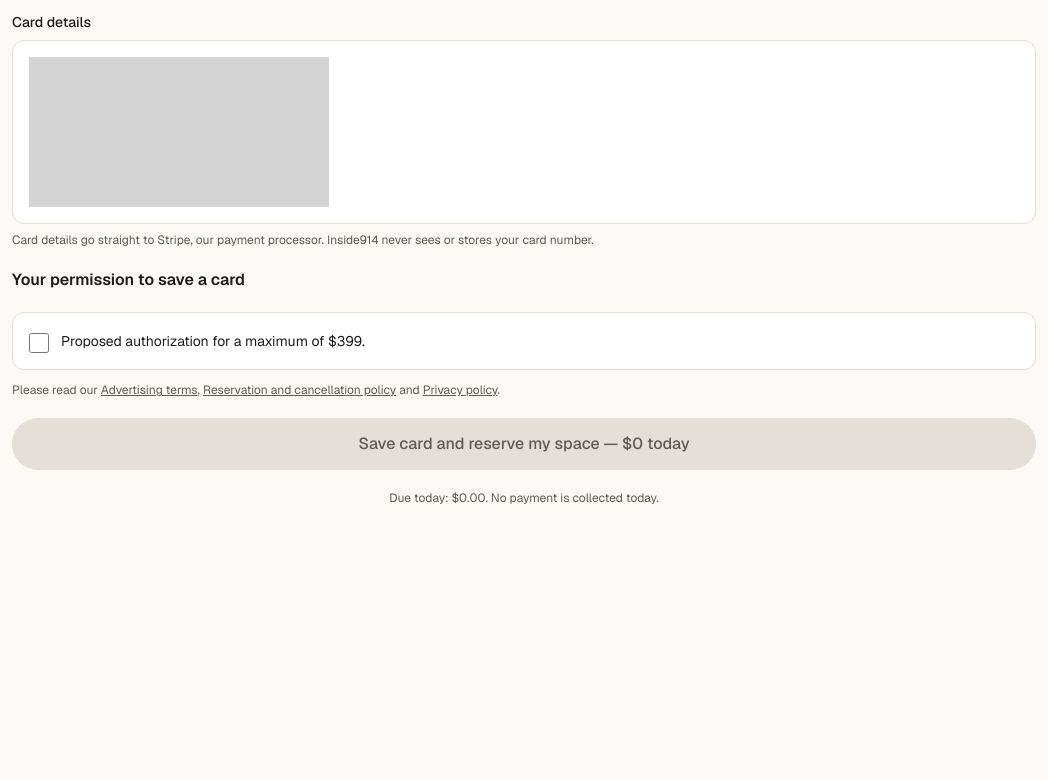
Test case: PaymentStep › a declined card shows Stripe's message and nothing is confirmed
The image size is (1048, 780).
Click the checkbox at {"x": 39, "y": 343}, box [29,333,49,353]
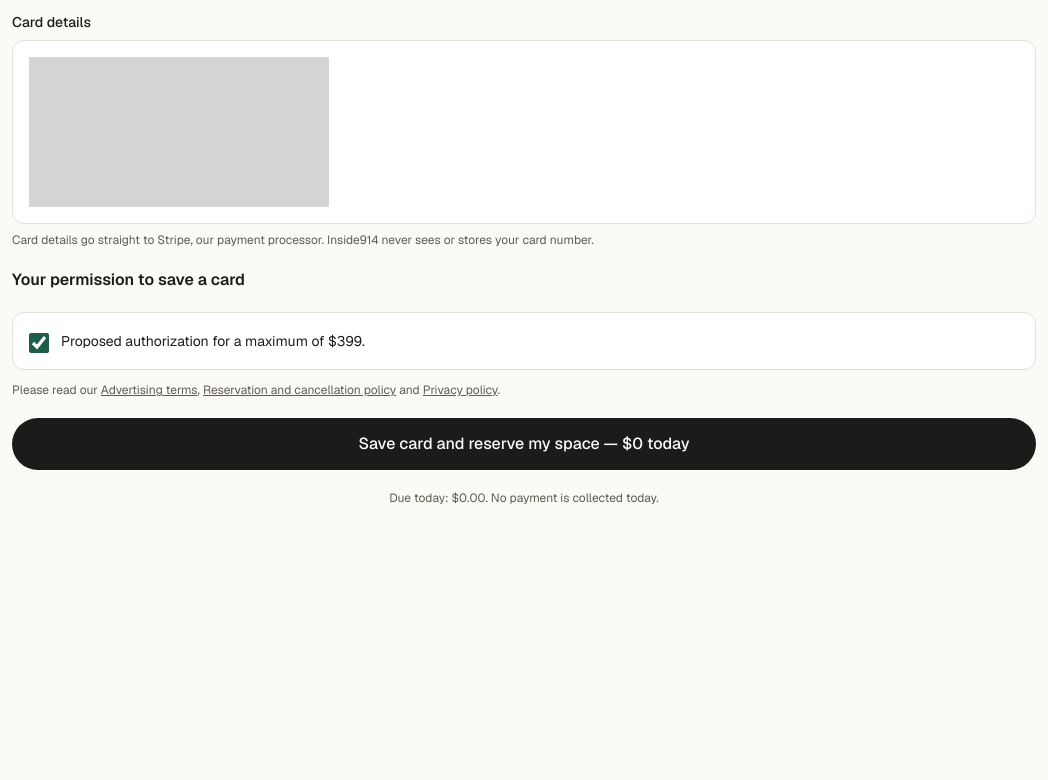
Click the button "Save card and reserve my space — $0 today" at {"x": 524, "y": 444}, box [12,418,1036,470]
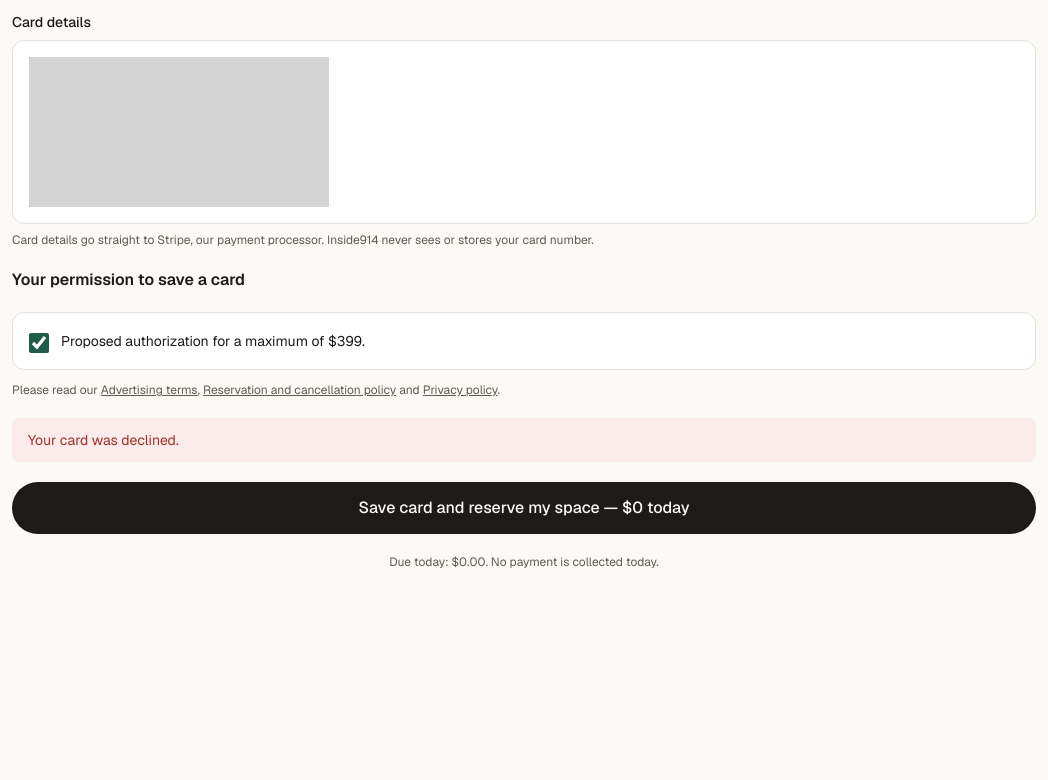
Expected: the message reads "Your card was declined.", [28,431,179,449]
